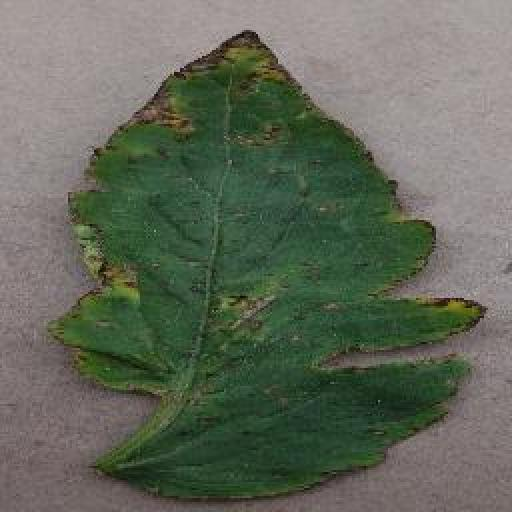Bacterial Spot: (44, 26, 489, 506)
